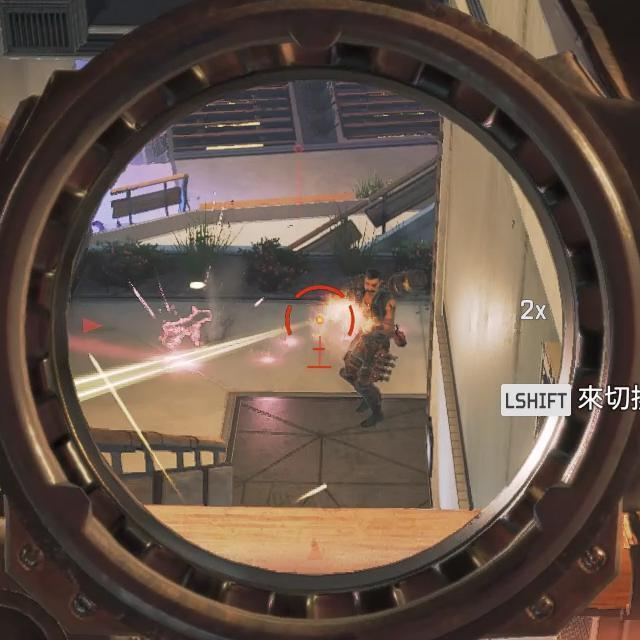avatar: (338, 268, 399, 431)
